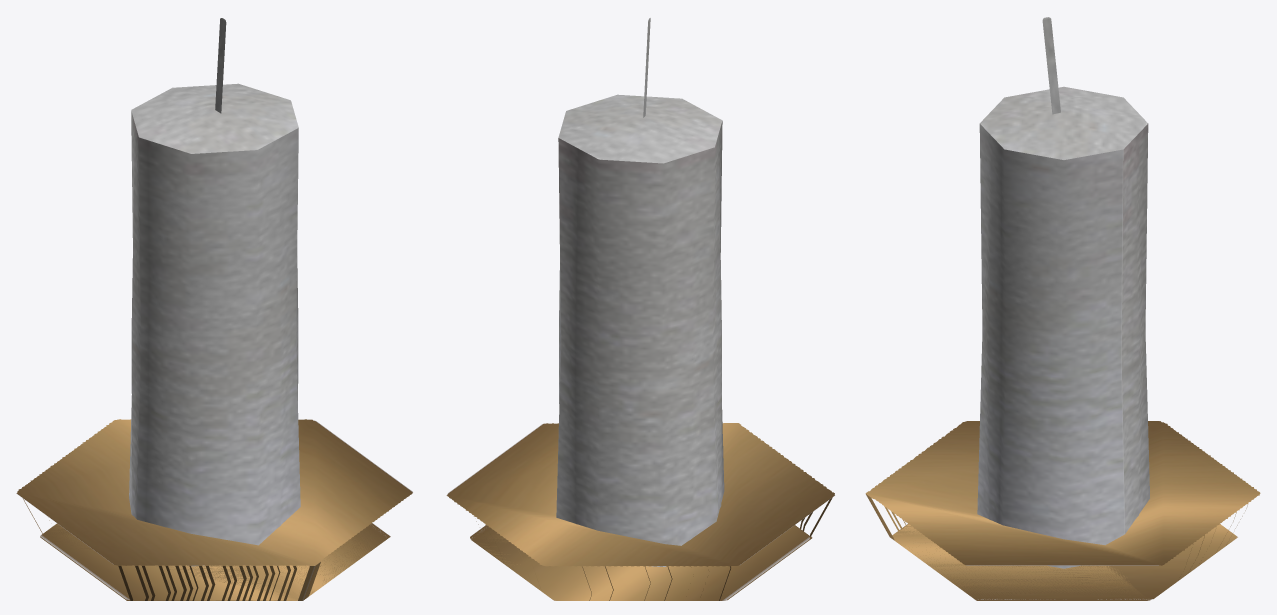
The model's file is Candle.fbx.
3 renders of one model, left to right at view 1: azimuth 30°, elevation 25°; view 2: azimuth 150°, elevation 25°; view 3: azimuth 270°, elevation 25°, orthographic. The views are drawn at different scales.
Parts seen in each view (by area): view 1: pCylinder2; view 2: pCylinder2; view 3: pCylinder2.
Boxes of the visible parts, x1,y1,x2,y2 form: pCylinder2: [16, 18, 412, 600]; pCylinder2: [446, 18, 834, 600]; pCylinder2: [865, 17, 1260, 600].
Size of the model in its own units: 1.97 by 3.31 by 2.28.
Materials: 1 (1 with a texture image).
